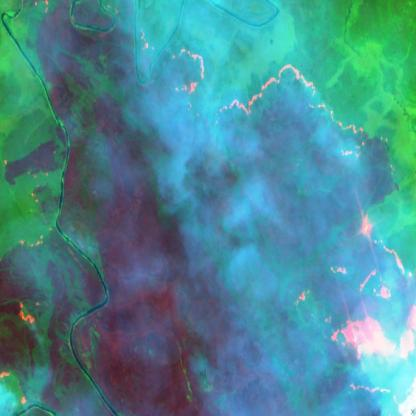fire: (294, 208, 416, 416), (216, 59, 366, 164), (168, 44, 208, 99), (0, 364, 30, 408), (15, 289, 45, 329)
